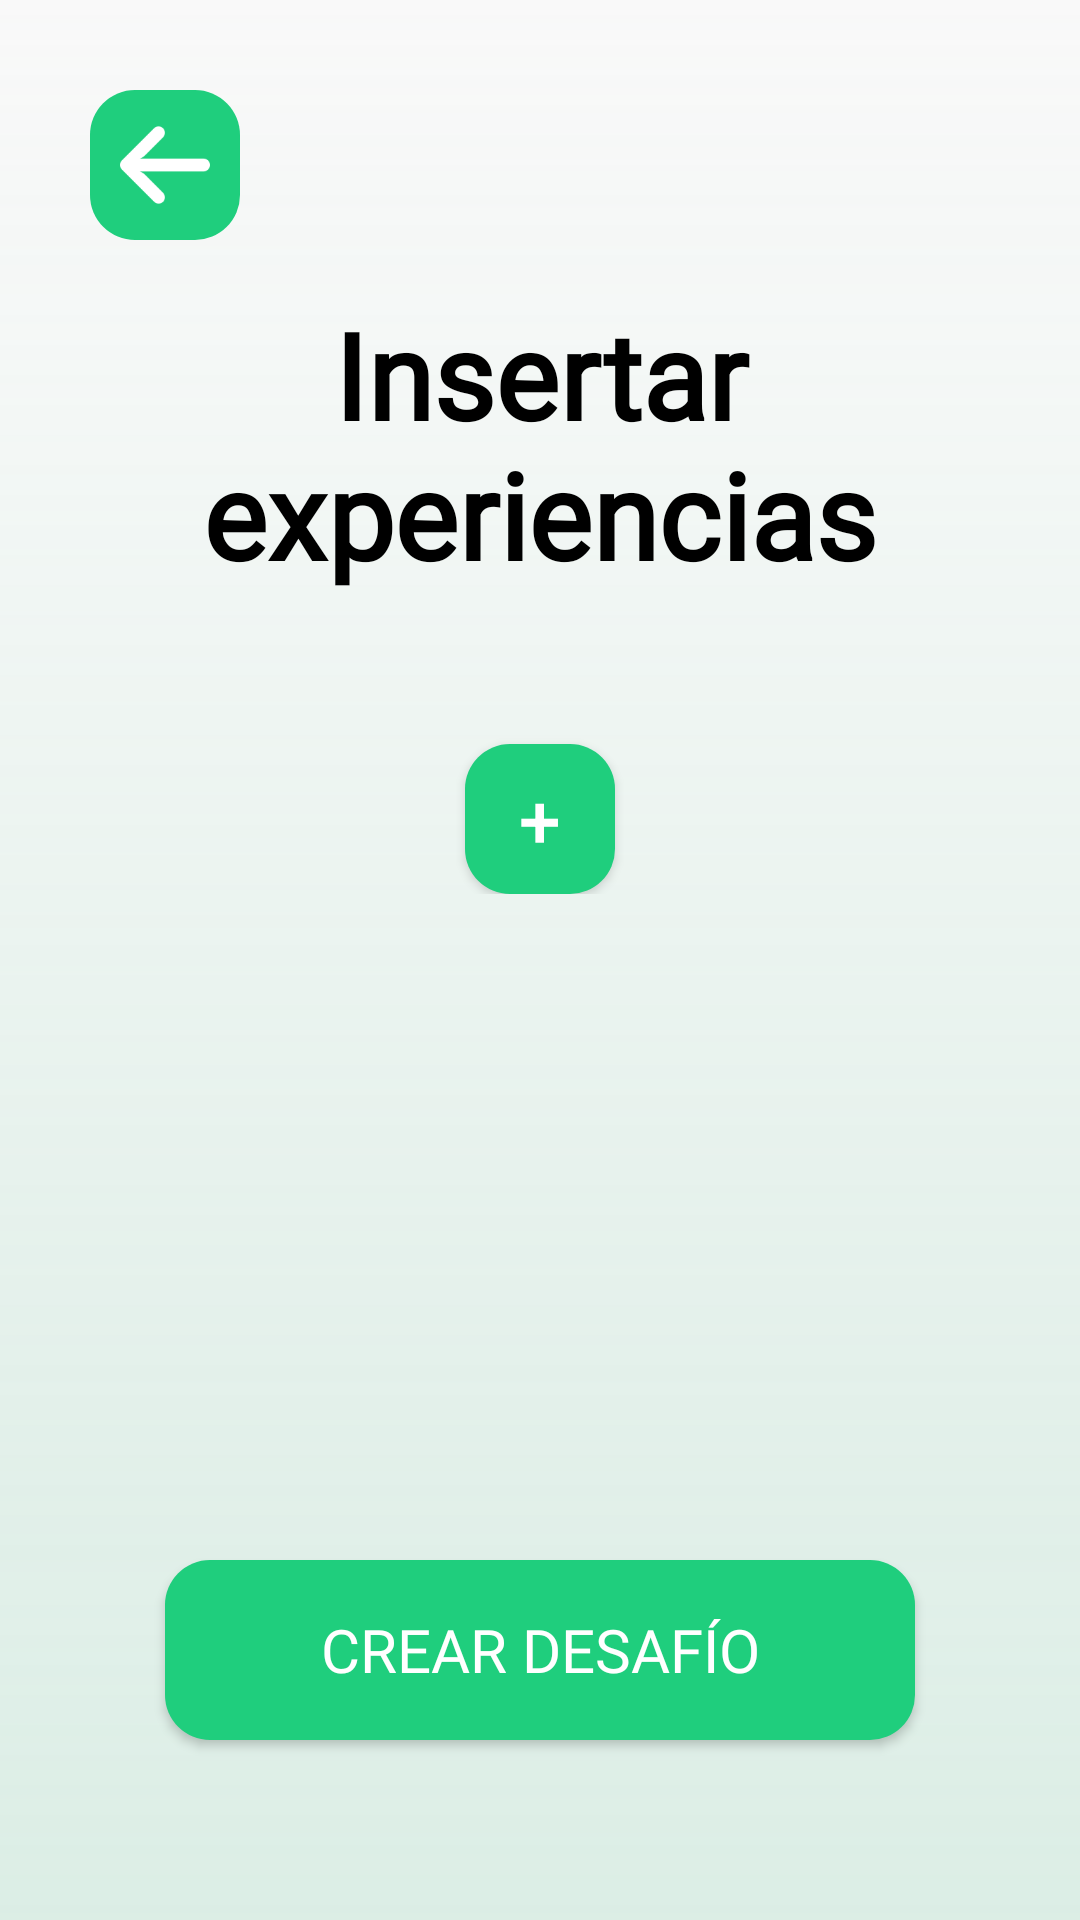

Point at icon controls on the screen. Image size 1080 x 1920, points as (x=x, y=y).
flecha izquierda: (x=165, y=165)
